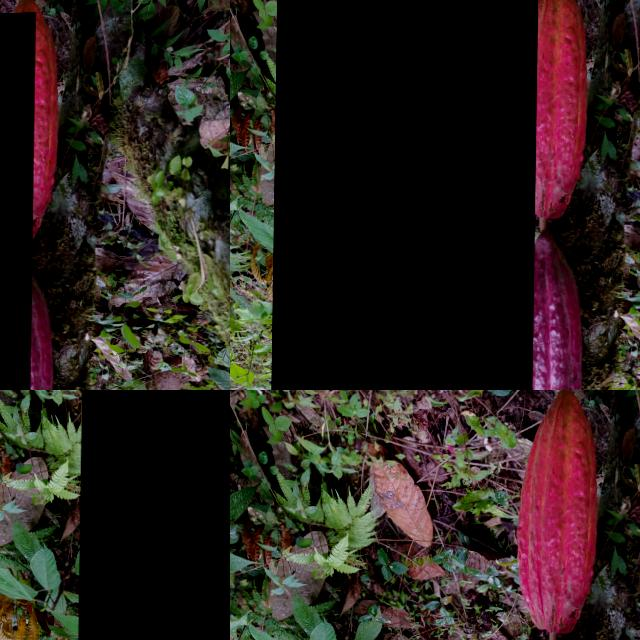Monilia: (271, 0, 538, 390), (78, 390, 230, 640)
Sana: (516, 390, 600, 639)
